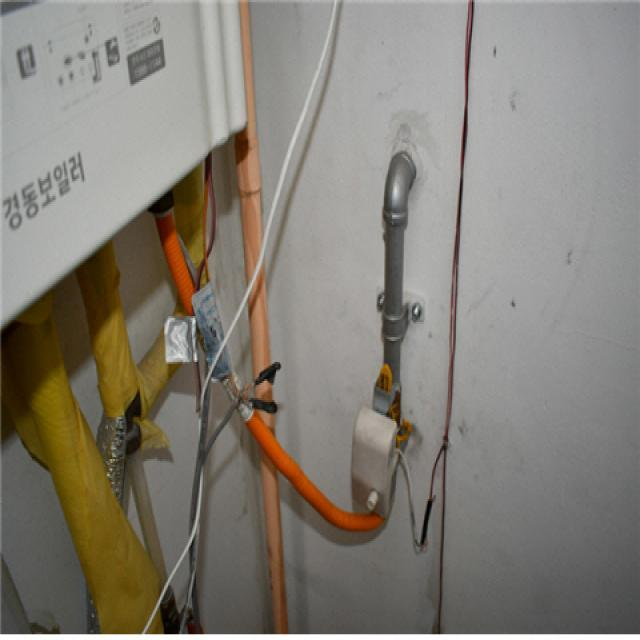Boiler: (1, 0, 276, 374)
